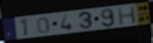0: (36, 17, 52, 34)
1: (19, 17, 30, 37)
3: (77, 11, 95, 30)
4: (60, 13, 75, 32)
9: (100, 7, 117, 28)
H: (117, 5, 138, 26)
